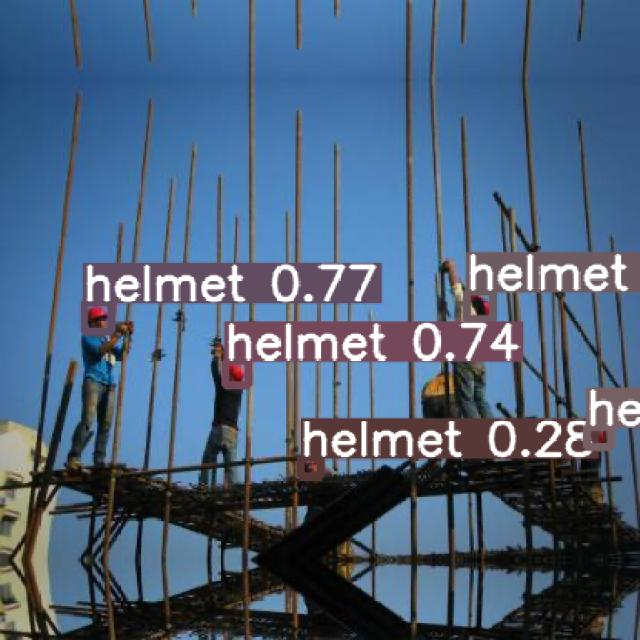helmet: (83, 302, 111, 331), (466, 291, 492, 318), (225, 360, 248, 385), (586, 426, 611, 446), (300, 457, 320, 475)
